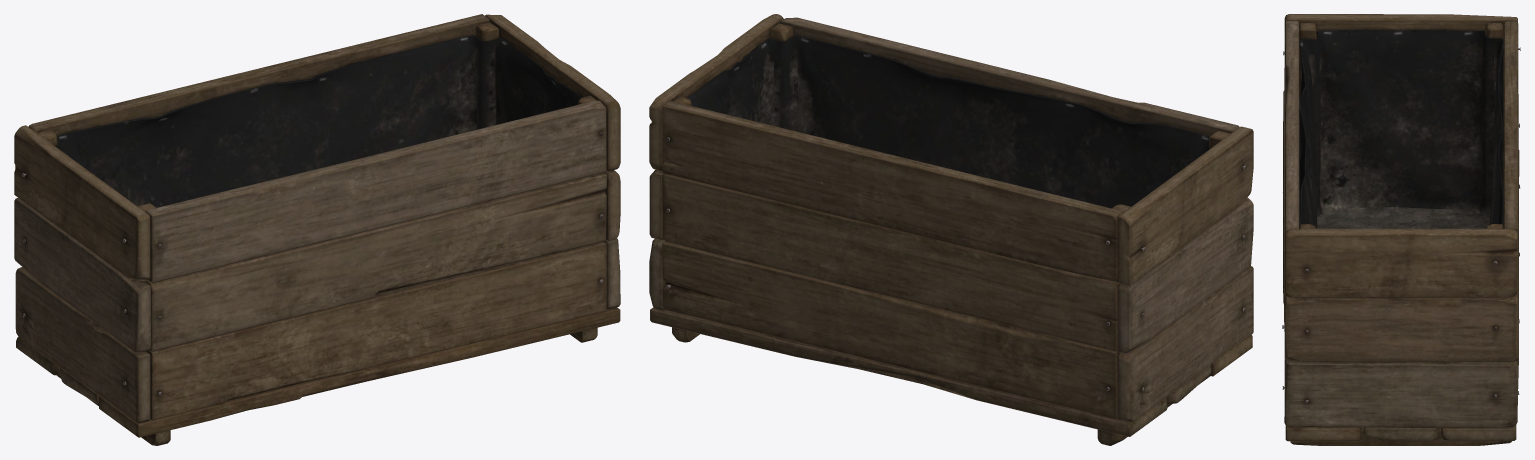
The model's file is planter_box_01.glb.
3 renders of one model, left to right at view 1: azimuth 30°, elevation 25°; view 2: azimuth 150°, elevation 25°; view 3: azimuth 270°, elevation 25°, orthographic. The views are drawn at different scales.
Parts seen in each view (by area): view 1: planter_box_01; view 2: planter_box_01; view 3: planter_box_01.
Part boxes in pixels (x1,y1,x2,y2): planter_box_01: [14, 14, 620, 445]; planter_box_01: [649, 14, 1253, 445]; planter_box_01: [1282, 14, 1520, 445].
Bounding box in the file's own units: 0.9126 × 0.425 × 0.4137.
Materials: 1 (1 with a texture image).
